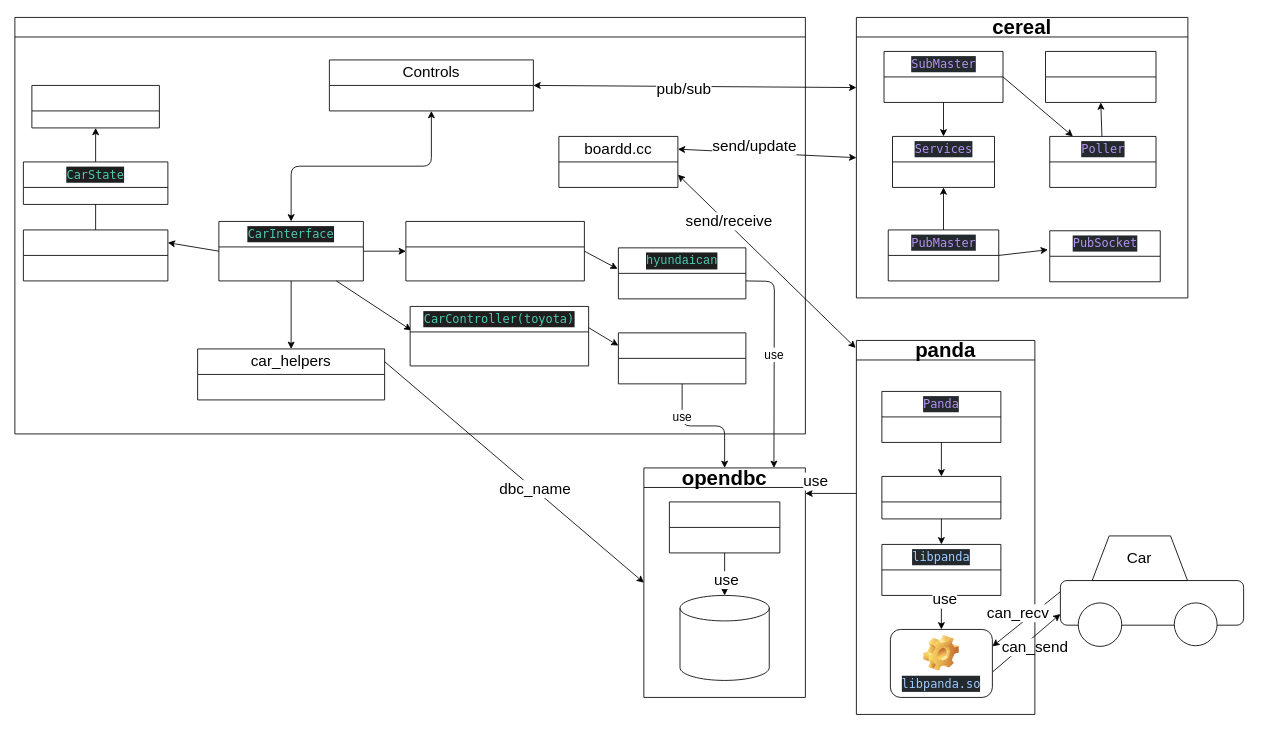
This 1262x729 diagram has some shape labels left out. The box of each missing label's shape, as (x1, y1, x2, y2) in pixels:
CANPacker: (669, 501, 780, 553)
CANPackerPanda: (881, 476, 1001, 519)
CarController(huyndai): (405, 221, 584, 281)
CarInterfaceBase: (23, 229, 168, 281)
CarStateBase: (31, 85, 159, 128)
DBC: (679, 595, 769, 680)
openpilot: (14, 17, 805, 434)
SubSocket: (1045, 51, 1156, 102)
toyotacan: (618, 332, 746, 384)
